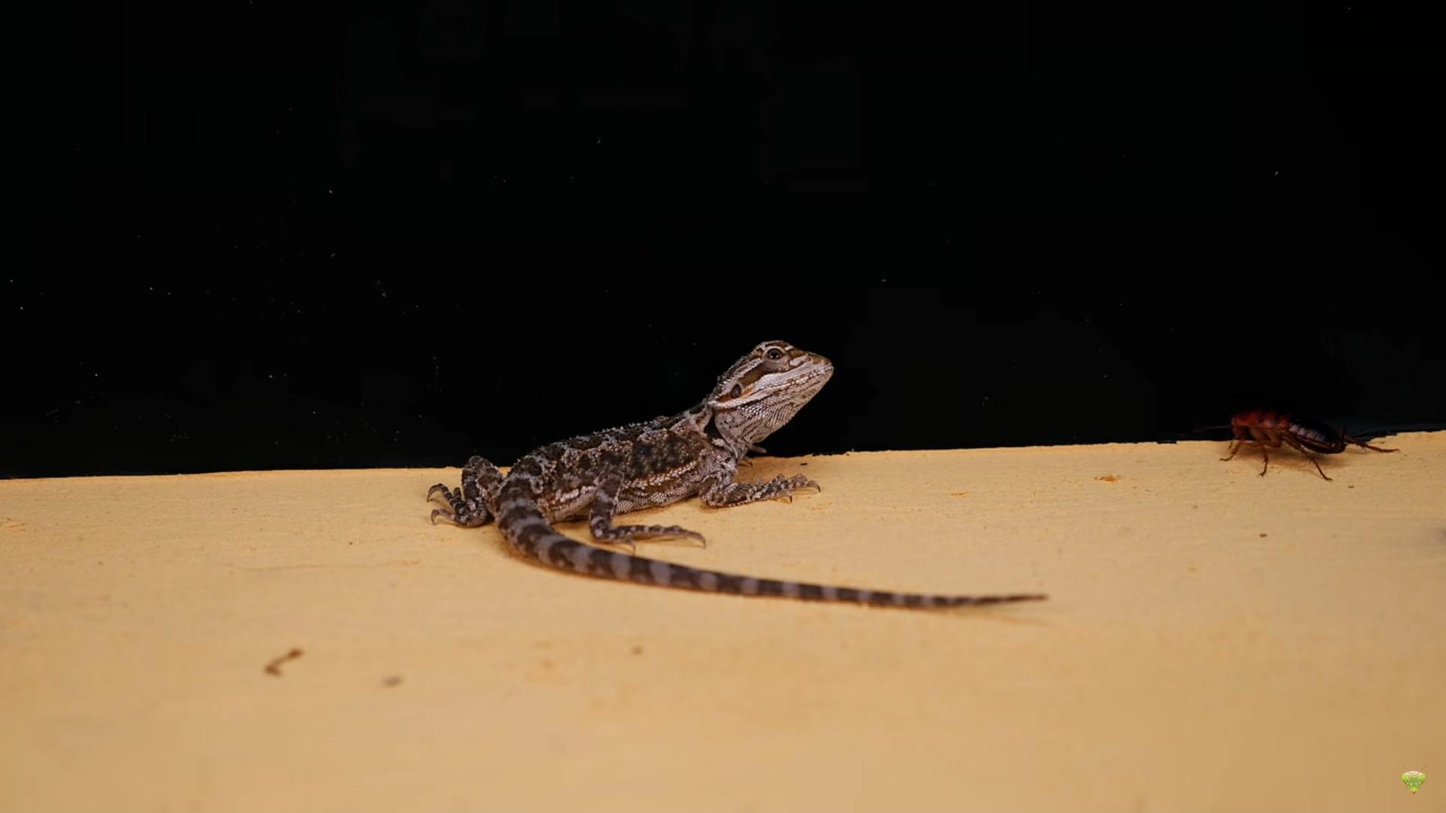cockroach: (1214, 385, 1401, 486)
lizard: (415, 334, 1050, 615)
